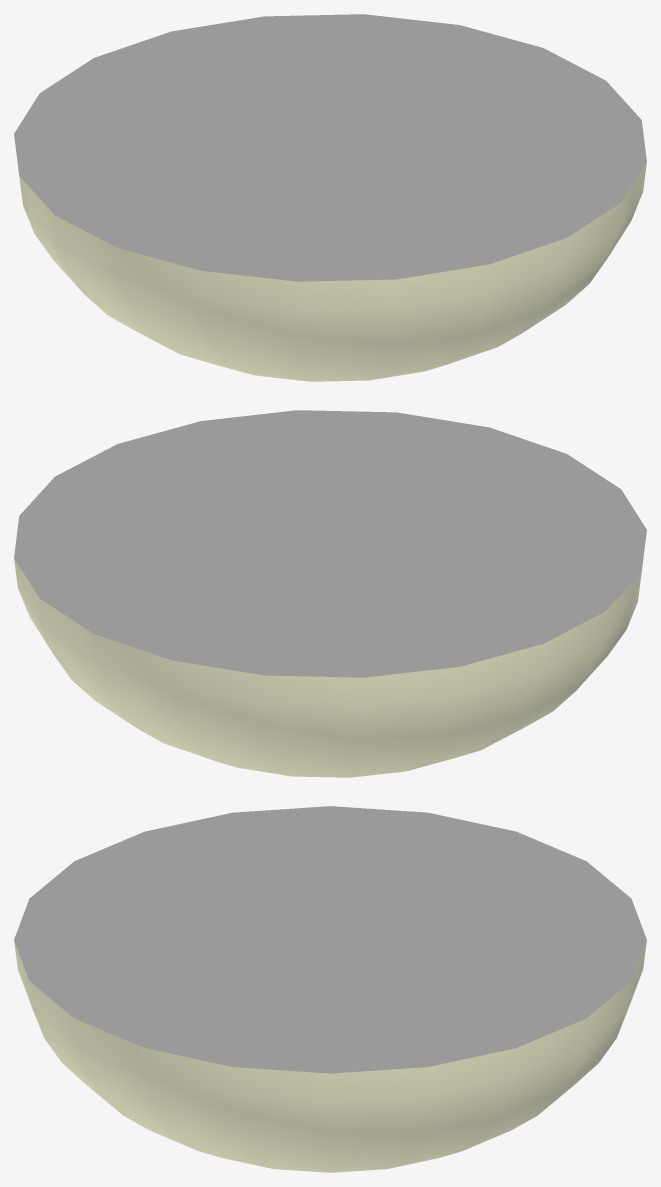
Rendered from SM_island.fbx.
3 renders of one model, top to bottom at view 1: azimuth 30°, elevation 25°; view 2: azimuth 150°, elevation 25°; view 3: azimuth 270°, elevation 25°, orthographic.
Parts seen in each view (by area): view 1: sm_island; view 2: sm_island; view 3: sm_island.
Boxes of the visible parts, x1,y1,x2,y2 form: sm_island: (14, 14, 646, 381); sm_island: (14, 410, 646, 777); sm_island: (14, 806, 646, 1172).
Bounding box in the file's own units: 2248 × 748 × 2248.
